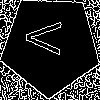V: (26, 20, 71, 56)
